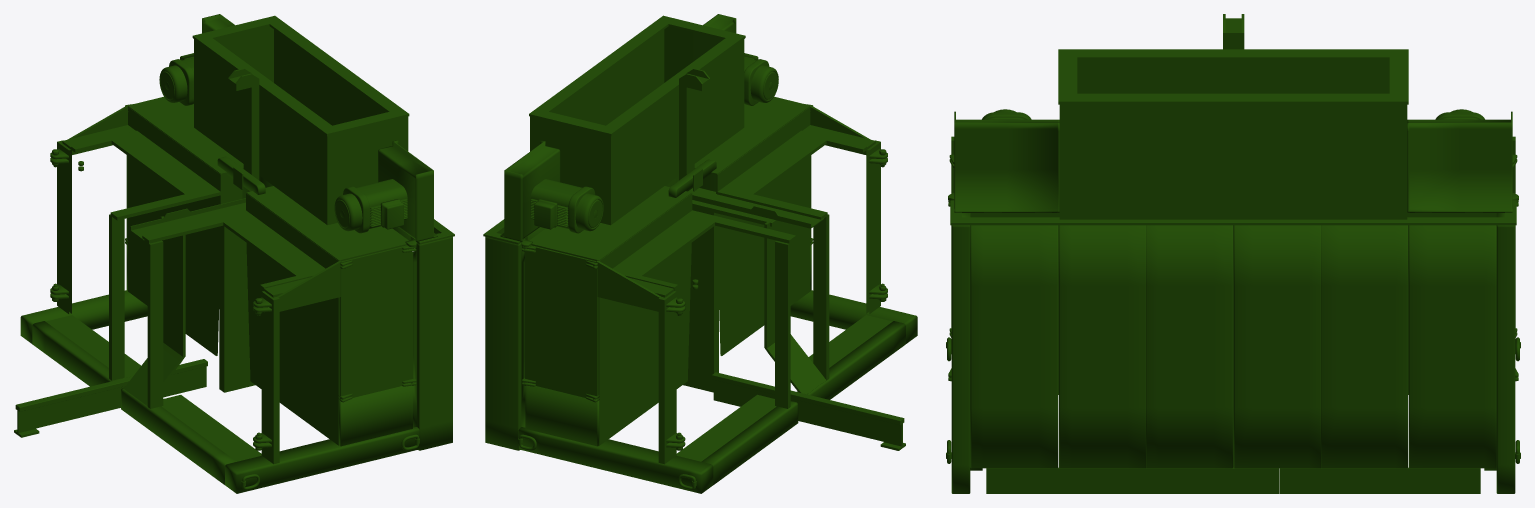
File: debarker_body.glb
3 views of the same model, side by side, from view 1: azimuth 30°, elevation 25°; view 2: azimuth 150°, elevation 25°; view 3: azimuth 270°, elevation 25° (orthographic). The views are drawn at different scales.
Visible parts, largest first — view 1: Debarker Body; view 2: Debarker Body; view 3: Debarker Body.
Boxes of the visible parts, bbox=[...] form: Debarker Body: bbox=[14, 14, 454, 493]; Debarker Body: bbox=[483, 14, 917, 493]; Debarker Body: bbox=[946, 14, 1520, 493].
Size of the model in its own units: 3.34 by 3.16 by 4.
